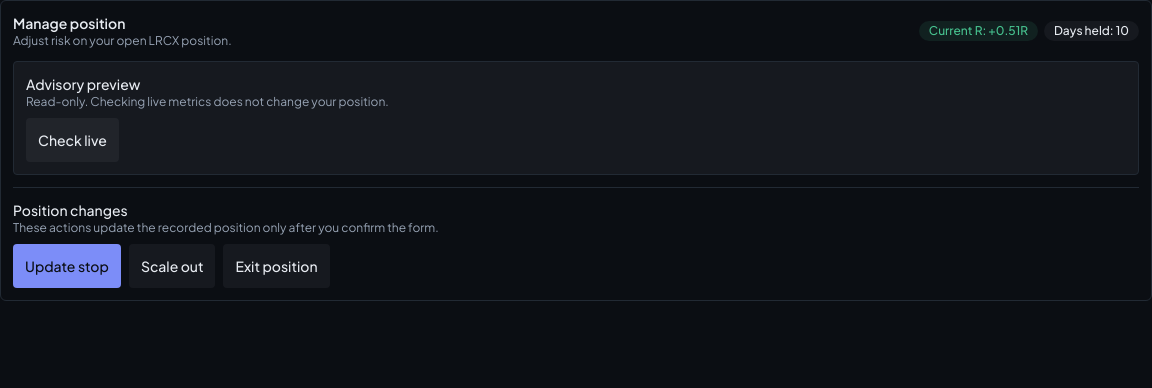
it: ManagePositionPanel › updates the displayed R and explains a live NO_ACTION stop preview
Step 1. Click the button "Check live" → (72, 140), box x1=26 y1=118 x2=119 y2=162
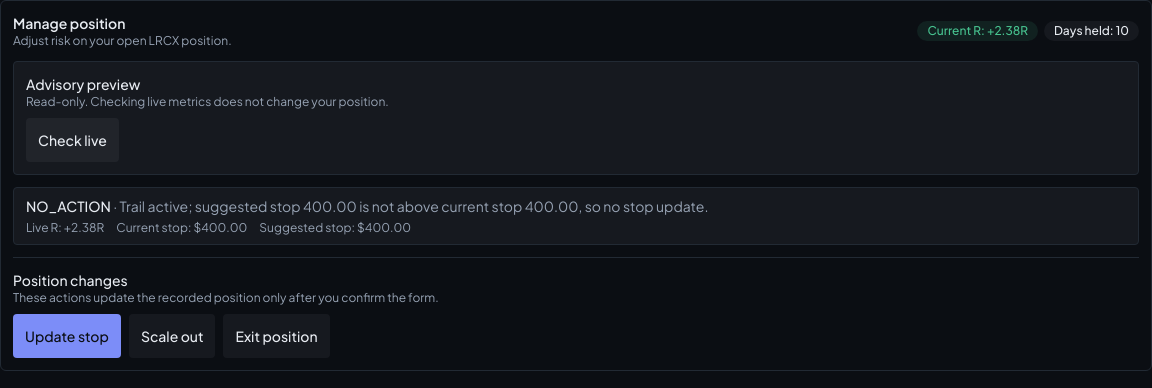
expect the text "not above current stop" is shown: met, box x1=120 y1=197 x2=708 y2=215
expect the text "Current stop: $400.00" is shown: met, box x1=116 y1=220 x2=247 y2=236
expect the text "Suggested stop: $400.00" is shown: met, box x1=259 y1=220 x2=411 y2=236
